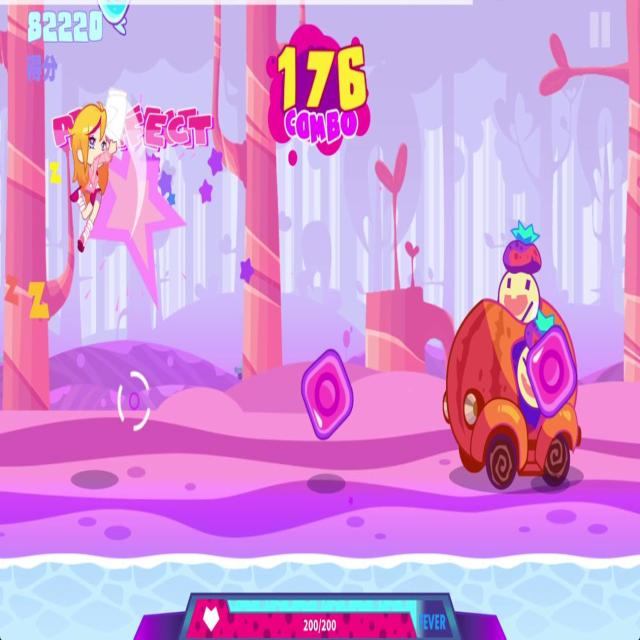cheboss: (440, 216, 584, 494)
kuai: (298, 340, 357, 443), (523, 320, 581, 421)
